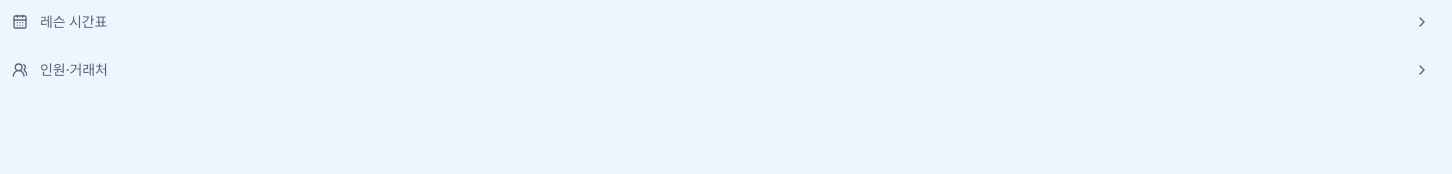
Test case: 사이드바 하위 메뉴 › 데스크톱은 처음 접고 화살표를 클릭할 때만 펼치거나 접는다
Expected: the link "학원레슨표" is not shown
Step 1. Hover over the link "레슨 시간표" → (60, 22), box [12,13,107,30]
Expected: the link "학원레슨표" is not shown
Step 2. Click the button named "레슨 시간표 하위 메뉴 펼치기" → (1422, 22), box [1404,4,1440,40]
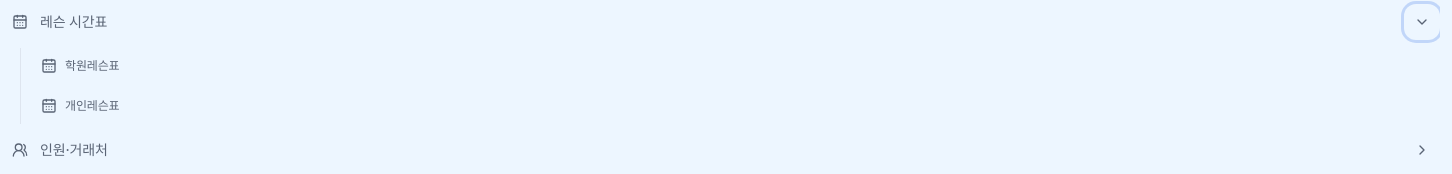
Expected: the button named "레슨 시간표 하위 메뉴 접기" is expanded
Expected: the link "학원레슨표" is shown, [41,58,119,74]
Step 3. Click the button named "레슨 시간표 하위 메뉴 접기" → (1422, 22), box [1404,4,1440,40]
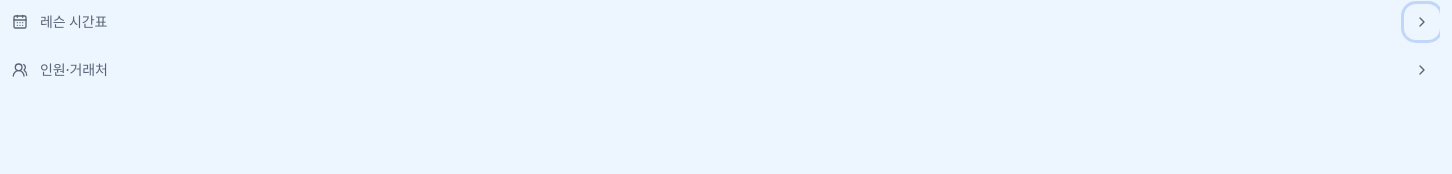
Expected: the link "학원레슨표" is gone
